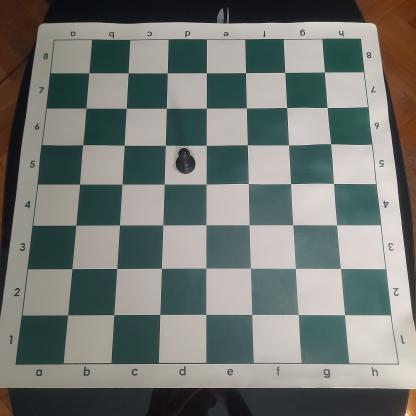black-pawn: (174, 148, 198, 177)
